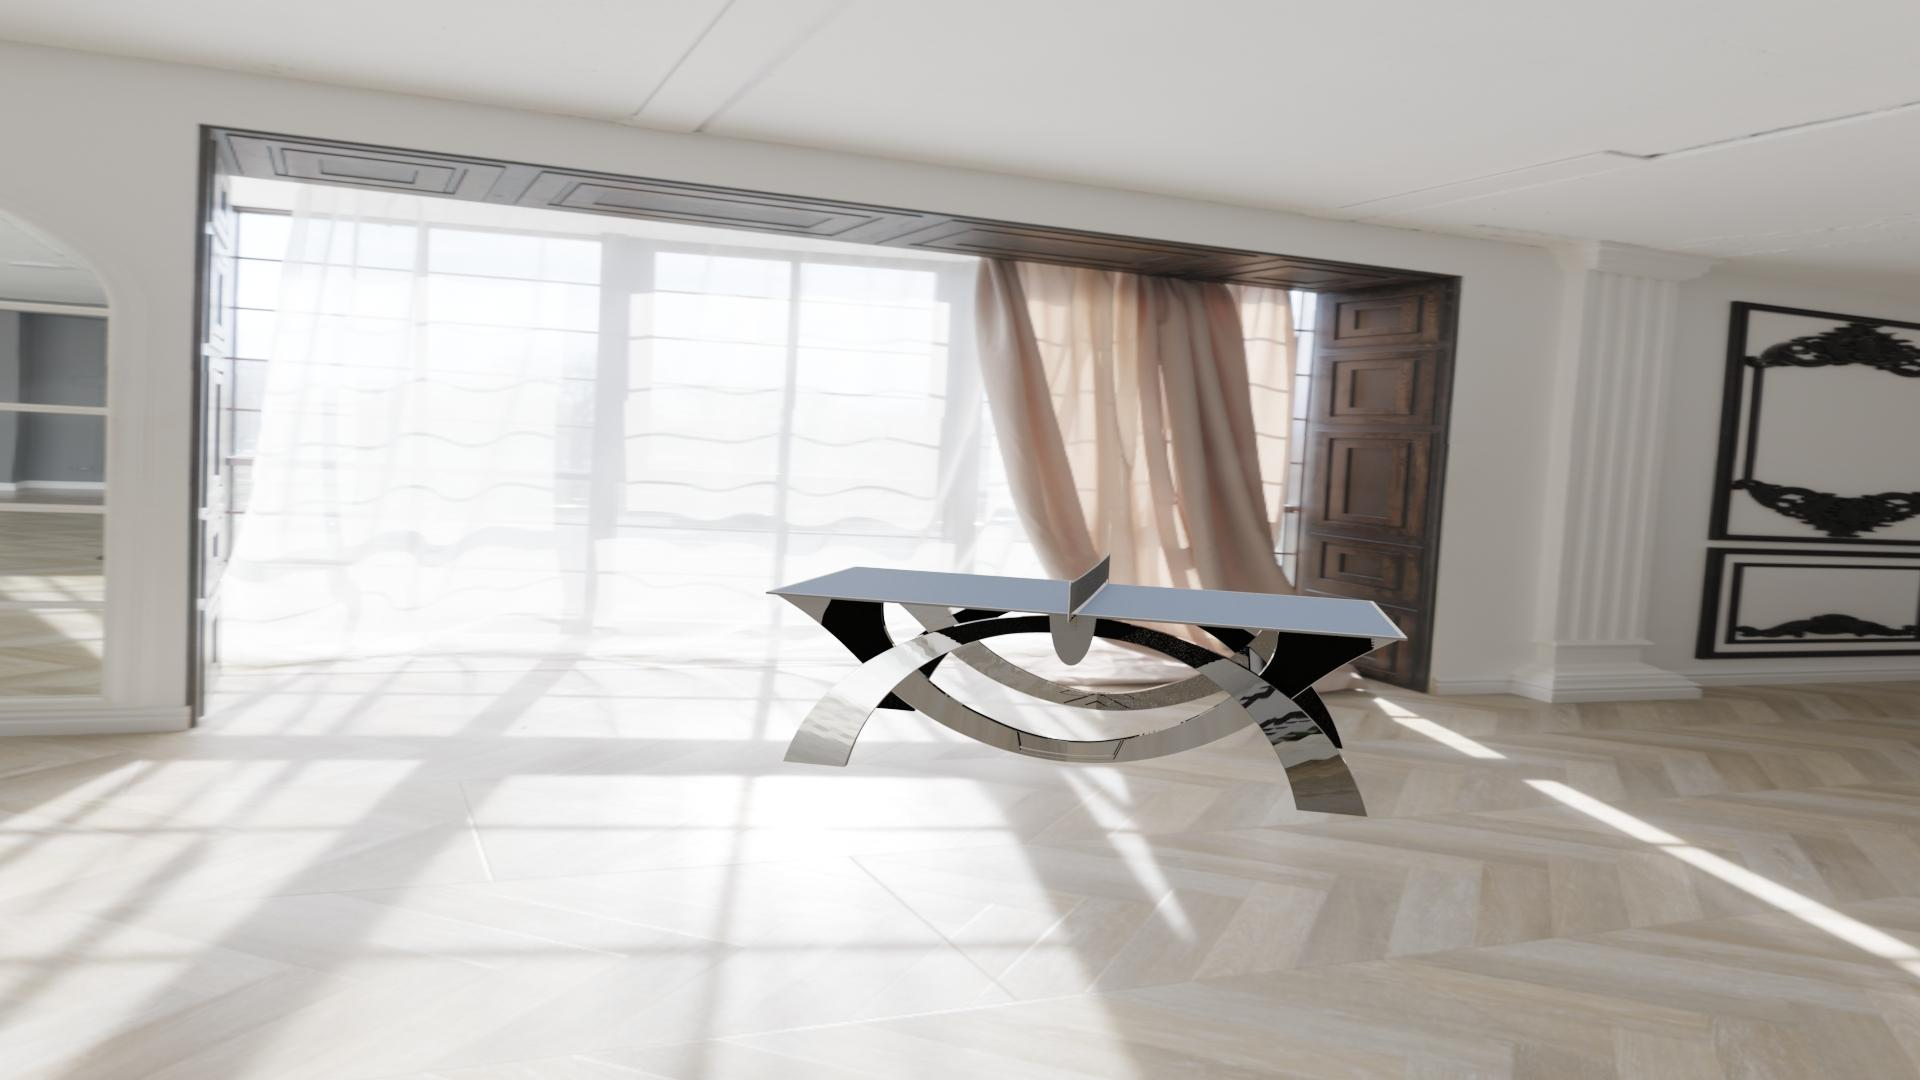table: (771, 567, 1402, 637)
